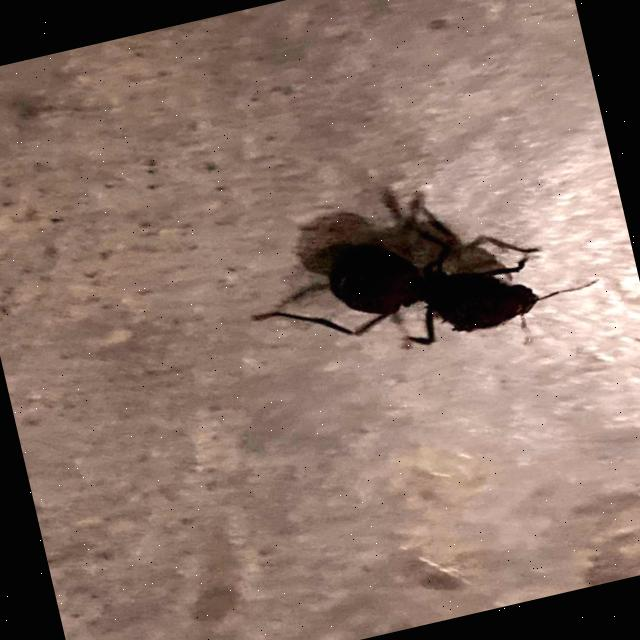Alive-Female-Dealate: (238, 185, 610, 404)
